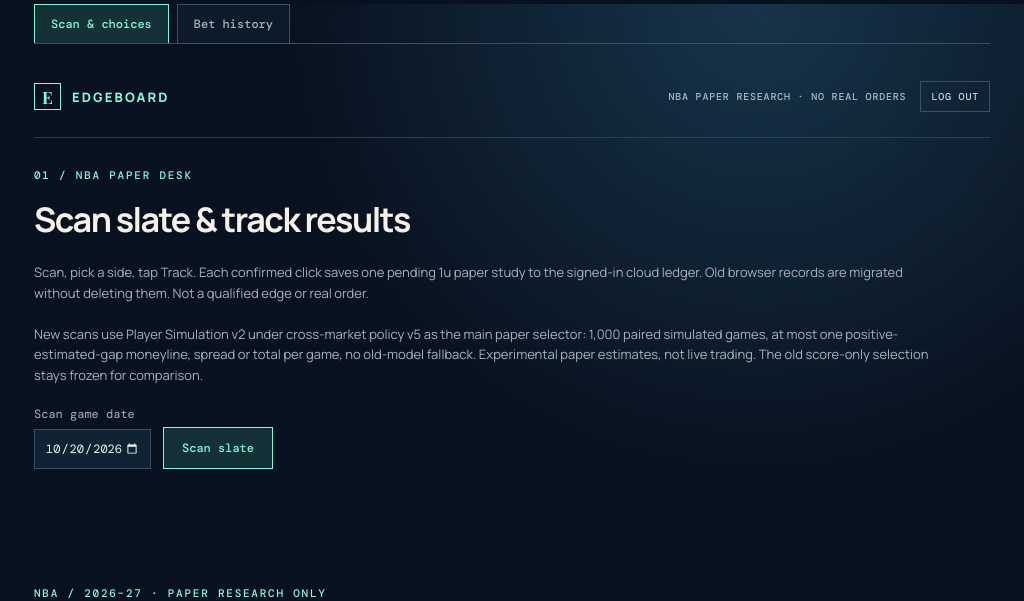
Test: October 20 NBA Kalshi checklist › does not show a stale study side when the Kalshi scan fails
Click the button "Scan slate": (218, 448) x1=163 y1=427 x2=273 y2=469
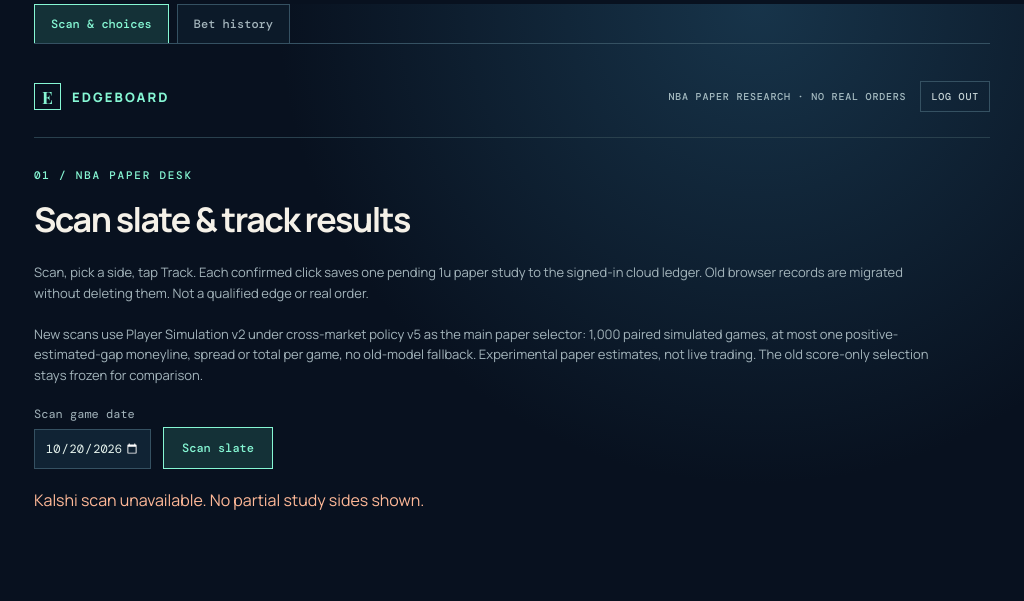
Result: the message shows "Kalshi scan unavailable" at x1=34 y1=489 x2=424 y2=511
